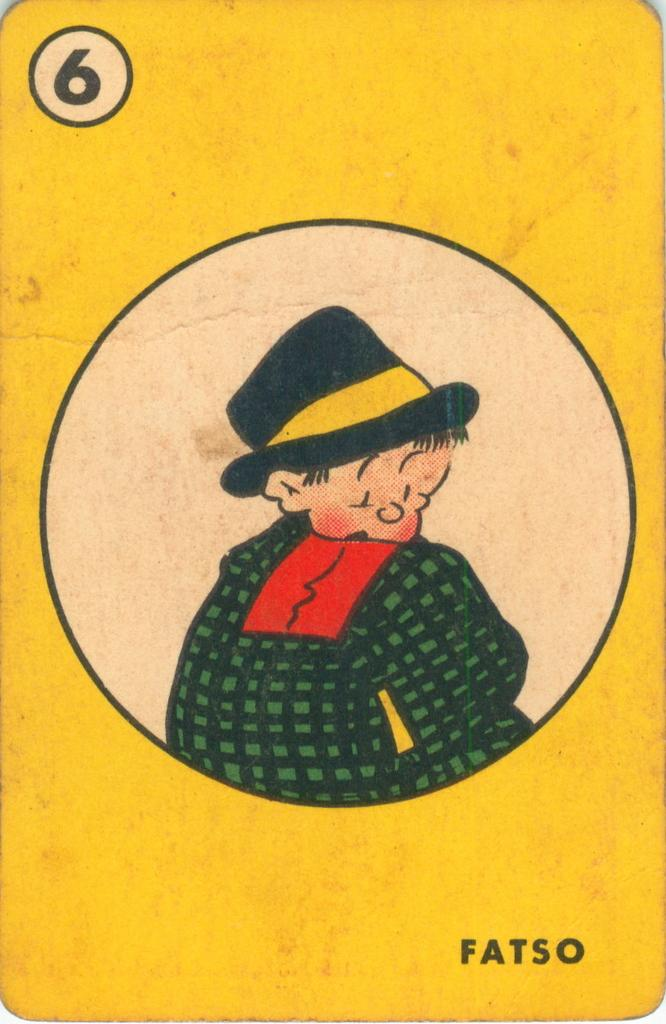Hat: (220, 303, 478, 497)
